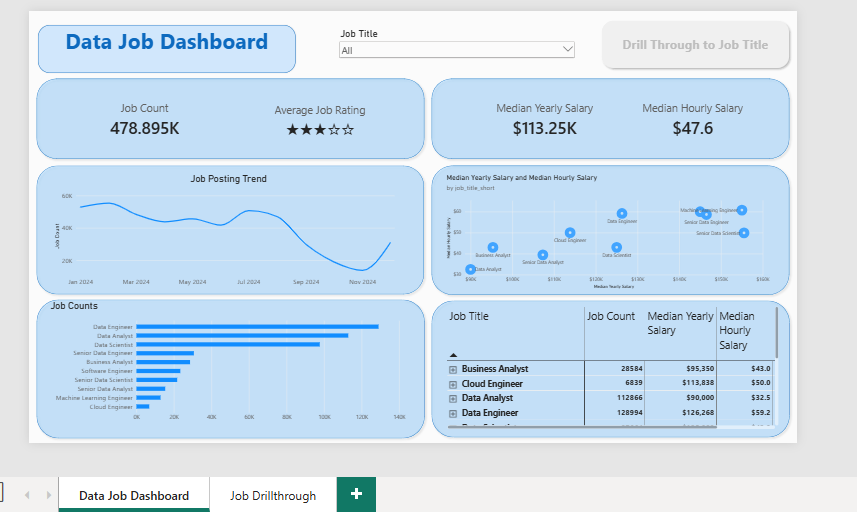

This screenshot's page, from the dashboard's own definition file:
{"tool":"powerbi","page":{"name":"Data Job Dashboard","canvas":[1920,1080],"ordinal":0},"visuals":[{"type":"shape","box":[996.7,714.7,913.3,360],"z":0,"group":"g7"},{"type":"group","id":"g1","title":"Group 1","box":[997.5,160,912.5,218.6],"z":1000,"group":"g4"},{"type":"shape","box":[10,712.8,988.3,365],"z":1000,"group":"g8"},{"type":"actionButton","box":[1423.3,13.8,486.7,136.7],"z":2000},{"type":"group","id":"g2","title":"Group 2","box":[10.8,160,987.5,218.6],"z":2000,"group":"g4"},{"type":"shape","box":[997.5,378.6,912.5,341.2],"z":2000,"group":"g5"},{"type":"shape","box":[10,377.7,986.7,340],"z":3000,"group":"g3"},{"type":"textbox","box":[21.4,34.3,644.3,120],"z":4000},{"type":"slicer","fields":{"Values":["job_postings_flat.job_title_short"]},"box":[770,40,600,77.5],"z":4000},{"type":"shape","box":[997.5,160,912.5,218.6],"z":4000,"group":"g1"},{"type":"group","id":"g3","title":"Group 3","box":[10,377.7,986.7,340],"z":4000,"group":"g6"},{"type":"group","id":"g4","title":"Group 7","box":[10,160,1900,917.8],"z":5000},{"type":"shape","box":[10.8,160,987.5,218.6],"z":5000,"group":"g2"},{"type":"group","id":"g5","title":"Group 4","box":[997.5,378.6,912.5,341.2],"z":5000,"group":"g6"},{"type":"group","id":"g6","title":"Group 9","box":[10,377.7,1900,342.1],"z":5001,"group":"g4"},{"type":"cardVisual","fields":{"Data":["CountNonNull(job_postings_flat.job_title_short)"]},"box":[43.9,181.6,493.7,177.8],"z":6000,"group":"g2"},{"type":"cardVisual","fields":{"Data":["job_postings_flat.Average of salary_year_avg star rating"]},"box":[490.6,193.6,475.9,165.8],"z":7000,"group":"g2"},{"type":"group","id":"g7","title":"Group 6","box":[10,709.5,1900,368.3],"z":7000,"group":"g4"},{"type":"cardVisual","fields":{"Data":["Median(job_postings_flat.salary_hour_avg)"]},"box":[1426.6,181.6,463.6,177.8],"z":11000,"group":"g1"},{"type":"cardVisual","fields":{"Data":["Median(job_postings_flat.salary_year_avg)"]},"box":[1039.4,181.6,498.2,177.8],"z":12000,"group":"g1"},{"type":"barChart","title":"Job Counts","fields":{"Category":["job_postings_flat.job_title_short"],"Y":["CountNonNull(job_postings_flat.job_title_short)"]},"box":[37.5,709.5,920,336.4],"z":13000,"group":"g8"},{"type":"pivotTable","fields":{"Rows":["job_postings_flat.job_title_short","job_postings_flat.job_posted_date.Variation.Date Hierarchy.Quarter"],"Values":["CountNonNull(job_postings_flat.job_title_short)","Median(job_postings_flat.salary_year_avg)","Median(job_postings_flat.salary_hour_avg)","SparklineData(CountNonNull(job_postings_flat.job_title_short)_[job_postings_flat.job_posted_date.Variation.Date Hierarch"]},"box":[1030,724.7,860,336.4],"z":14000,"group":"g7"},{"type":"lineChart","title":"Job Posting Trend","fields":{"Category":["job_postings_flat.job_posted_date.Variation.Date Hierarchy.Year","job_postings_flat.job_posted_date.Variation.Date Hierarchy.Quarter","job_postings_flat.job_posted_date.Variation.Date Hierarchy.Month","job_postings_flat.job_posted_date.Variation.Date Hierarchy.Day"],"Y":["CountNonNull(job_postings_flat.job_title_short)"]},"box":[44.7,393,908.1,317.1],"z":15000,"group":"g3"},{"type":"scatterChart","fields":{"X":["Median(job_postings_flat.salary_year_avg)"],"Y":["job_postings_flat.salary_hour_avg"],"Series":["job_postings_flat.job_title_short"]},"box":[1027.5,393,840,317.1],"z":16000,"group":"g5"},{"type":"group","id":"g8","title":"Group 5","box":[10,709.5,988.3,368.3],"z":16005,"group":"g7"}]}

Visuals, with their boxes on the page's 1920x1080 design canvas (x1, y1, x2, y2). These are canvas units, not pixel positions in the 857x512 screenshot, which may show the page scaled, cropped or inside an application window:
shape: 997:715:1910:1075
"Group 1" group: 998:160:1910:379
shape: 10:713:998:1078
actionButton: 1423:14:1910:150
"Group 2" group: 11:160:998:379
shape: 998:379:1910:720
shape: 10:378:997:718
textbox: 21:34:666:154
slicer - job_postings_flat.job_title_short: 770:40:1370:118
shape: 998:160:1910:379
"Group 3" group: 10:378:997:718
"Group 7" group: 10:160:1910:1078
shape: 11:160:998:379
"Group 4" group: 998:379:1910:720
"Group 9" group: 10:378:1910:720
cardVisual - CountNonNull(job_postings_flat.job_title_short): 44:182:538:359
cardVisual - job_postings_flat.Average of salary_year_avg star rating: 491:194:966:359
"Group 6" group: 10:710:1910:1078
cardVisual - Median(job_postings_flat.salary_hour_avg): 1427:182:1890:359
cardVisual - Median(job_postings_flat.salary_year_avg): 1039:182:1538:359
"Job Counts" barChart: 38:710:958:1046
pivotTable - job_postings_flat.job_title_short x job_postings_flat.job_posted_date.Variation.Date Hierarchy.Quarter: 1030:725:1890:1061
"Job Posting Trend" lineChart: 45:393:953:710
scatterChart - Median(job_postings_flat.salary_year_avg) x job_postings_flat.salary_hour_avg: 1028:393:1868:710
"Group 5" group: 10:710:998:1078
